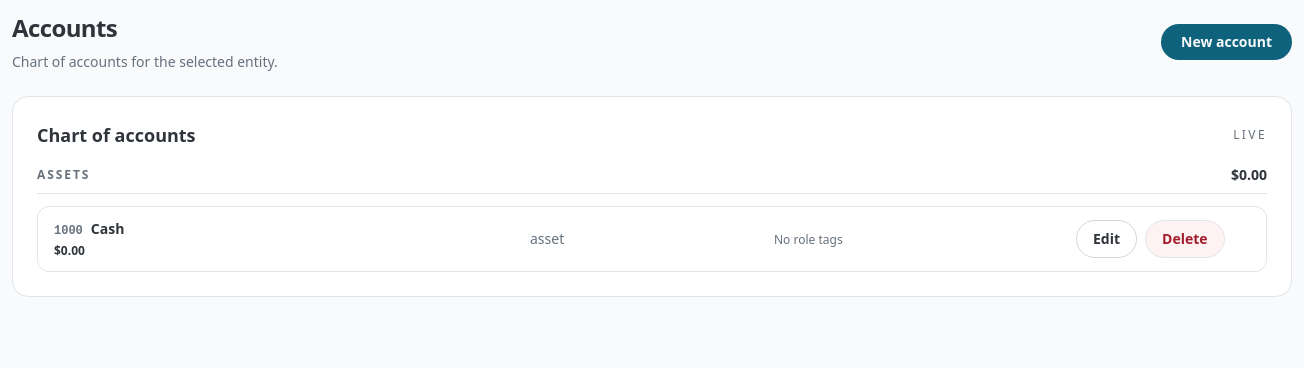
Test case: Accounts page › blocks deleting an account that has transactions
Expected: the text "Cash" is shown, [91, 219, 124, 239]
Click the button "Delete". click: (1185, 239)
box: [1145, 220, 1225, 258]
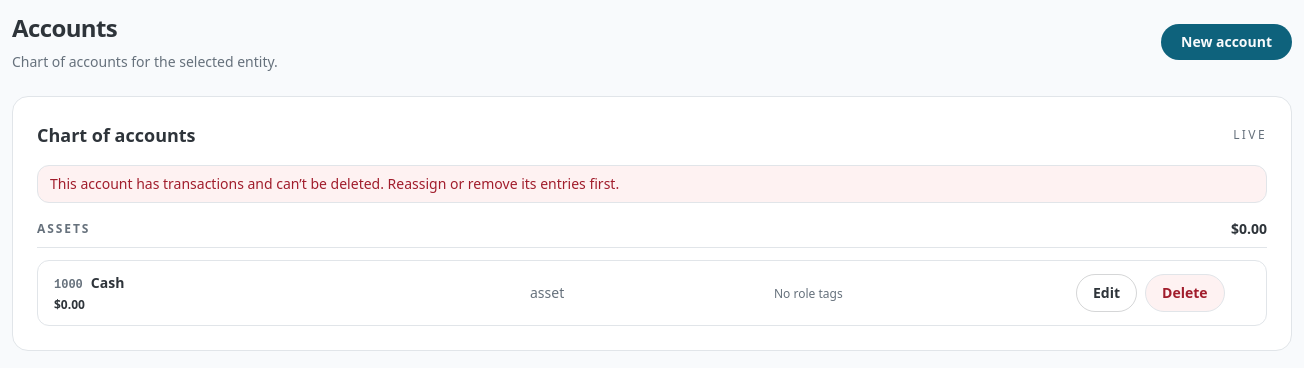
Expected: the text "Cash" is shown, [91, 273, 124, 293]
Expected: the text "has transactions and can.t be deleted" is shown, [50, 174, 619, 193]
